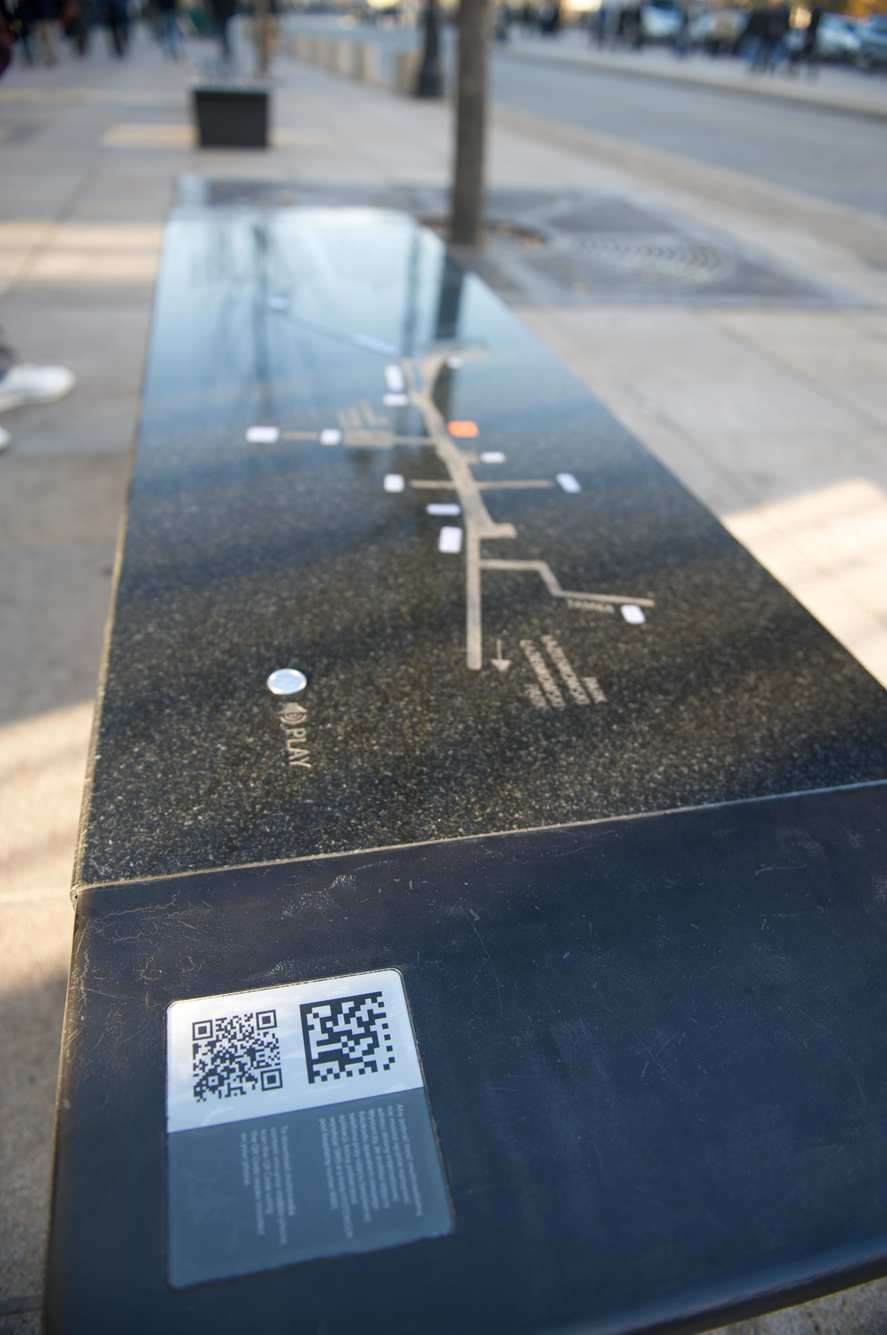QR-CODE: (192, 1009, 283, 1103)
